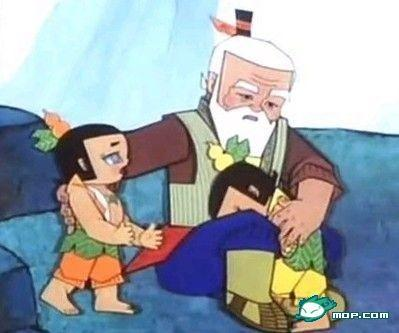person: (56, 22, 348, 333), (40, 124, 167, 313), (207, 159, 335, 331)
